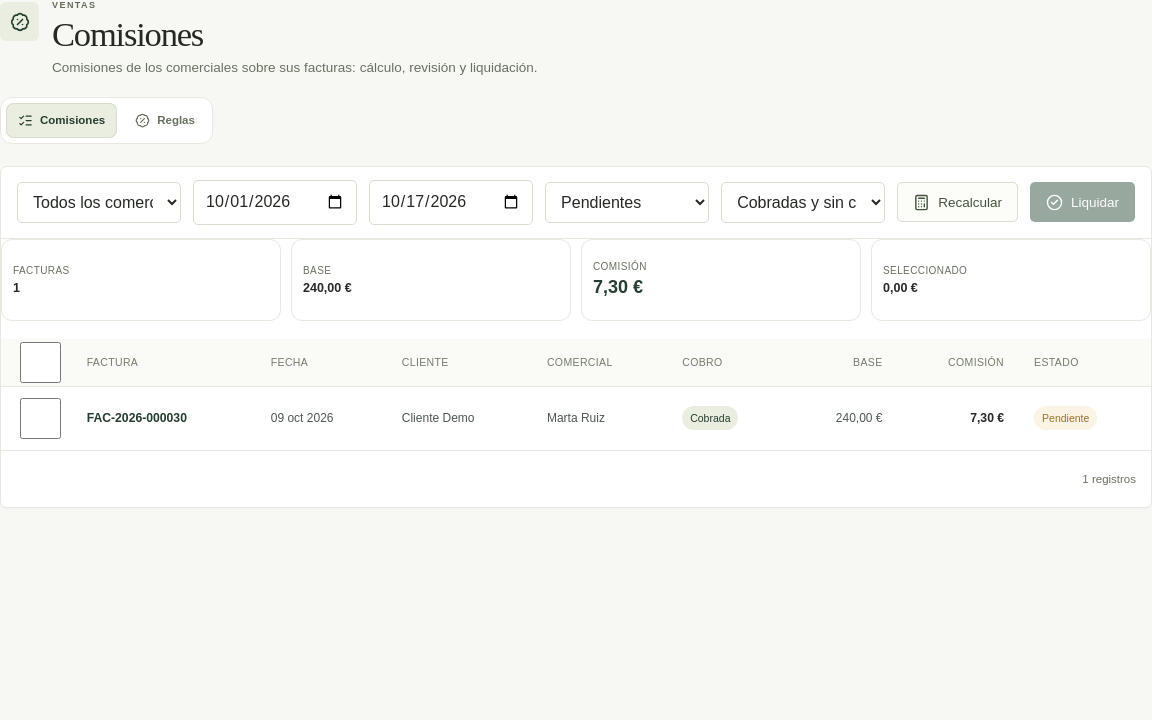
Test case: shows the commission of every line and settles the selected ones
Click the text "FAC-2026-000030": (137, 418) [87,411,187,425]
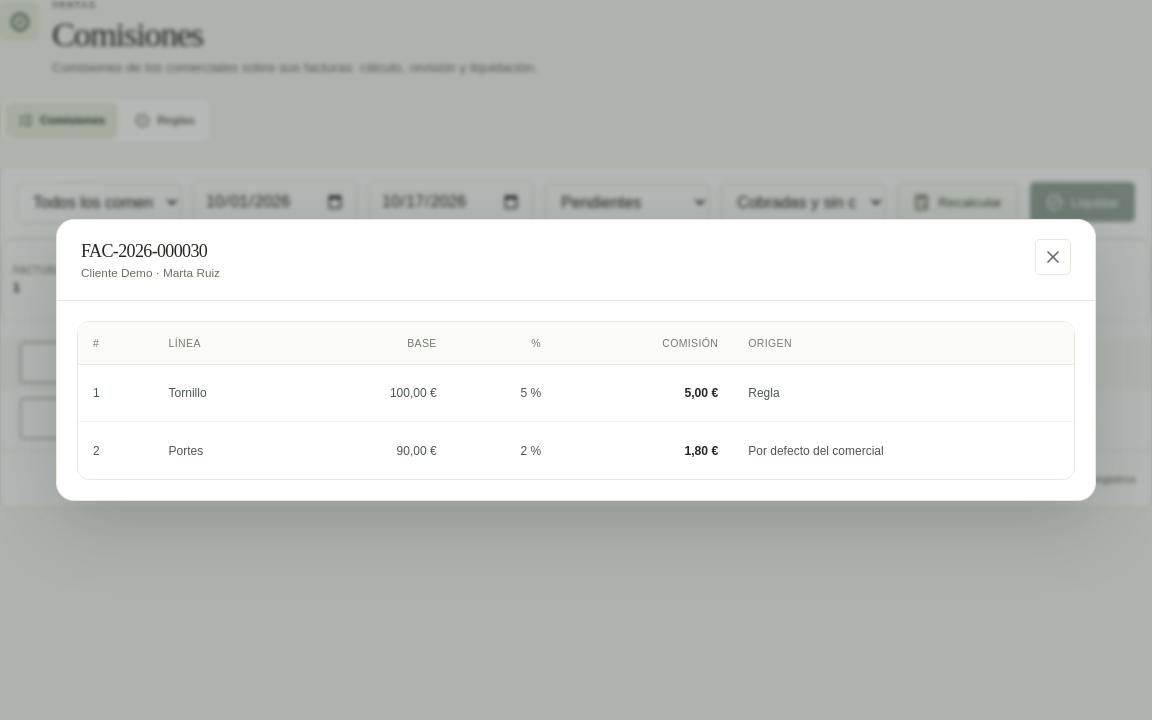
Result: the table named "Comisión por línea" shows "Por defecto del comercial" at [748,444,884,458]
Click the button named "Cerrar": (1053, 257) [1035,239,1071,275]
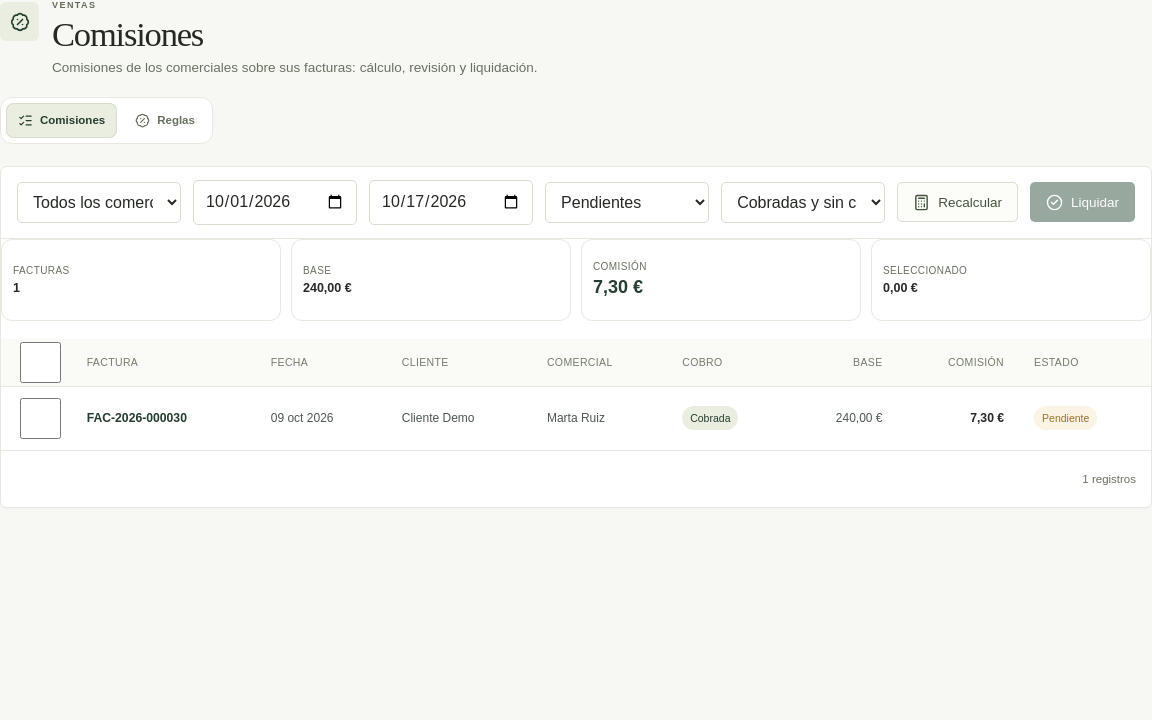
Click the checkbox named "Seleccionar FAC-2026-000030": (40, 418) [20,398,61,438]
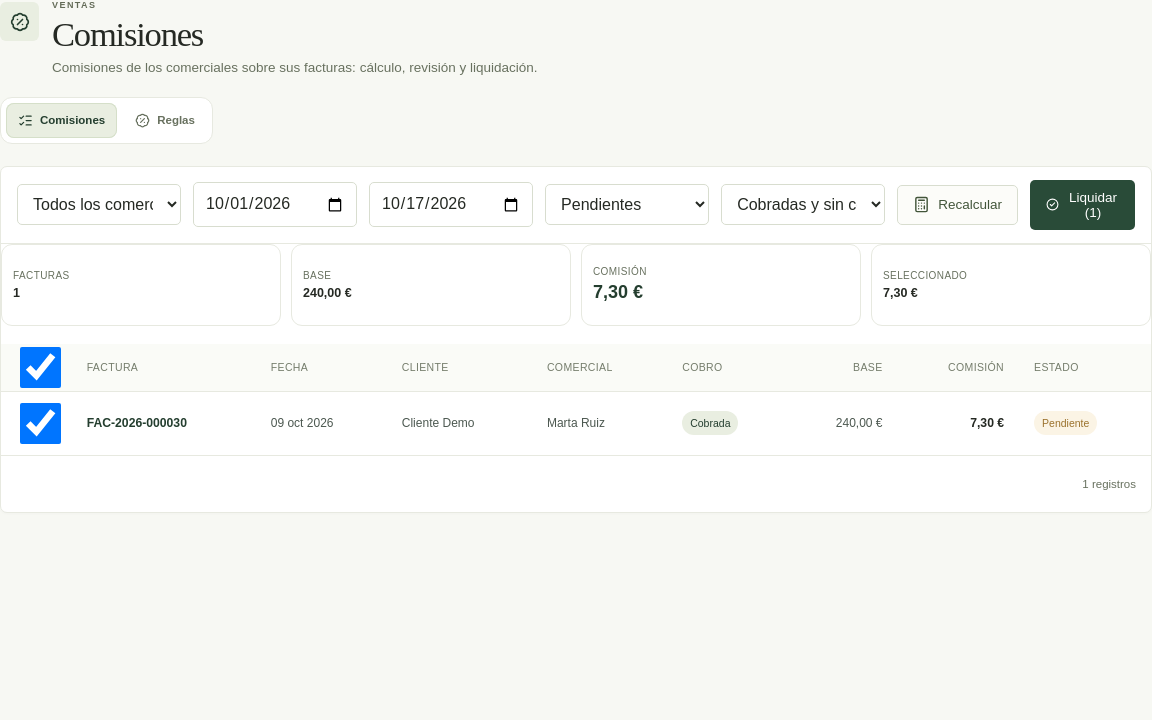
Click the button "Liquidar (1)": (1082, 205) [1030,180,1135,230]
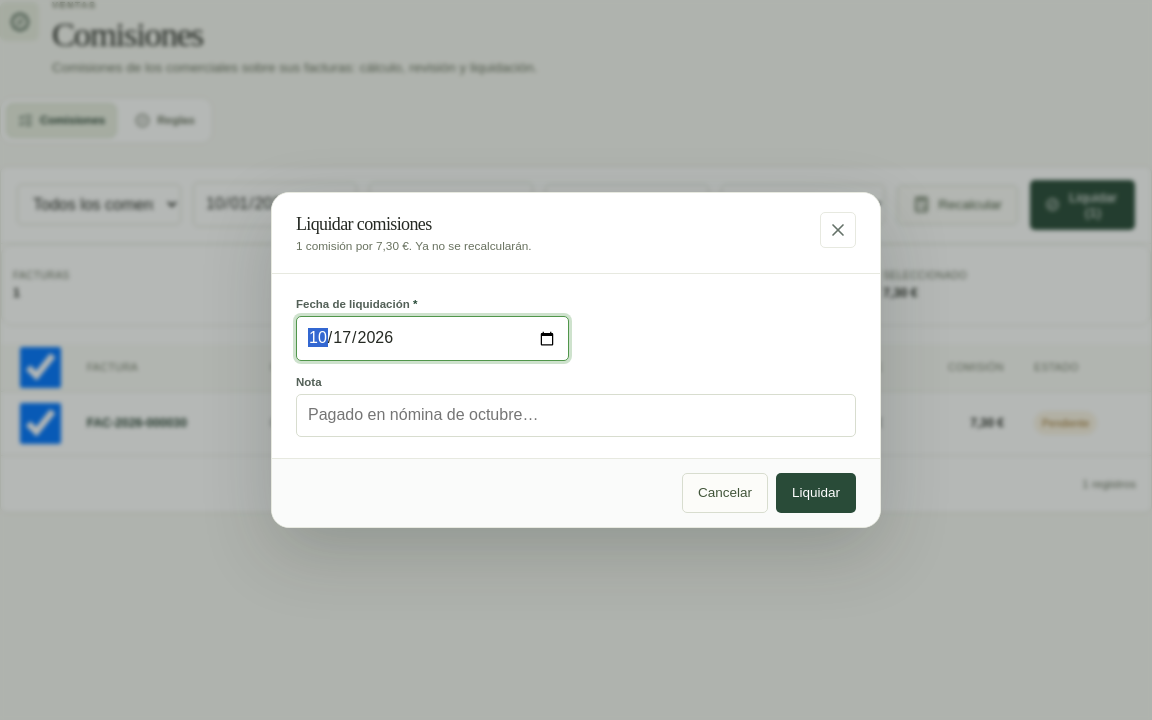
In the field labelled "Nota": (576, 415) [296,394,856,437], type "Nómina de octubre"
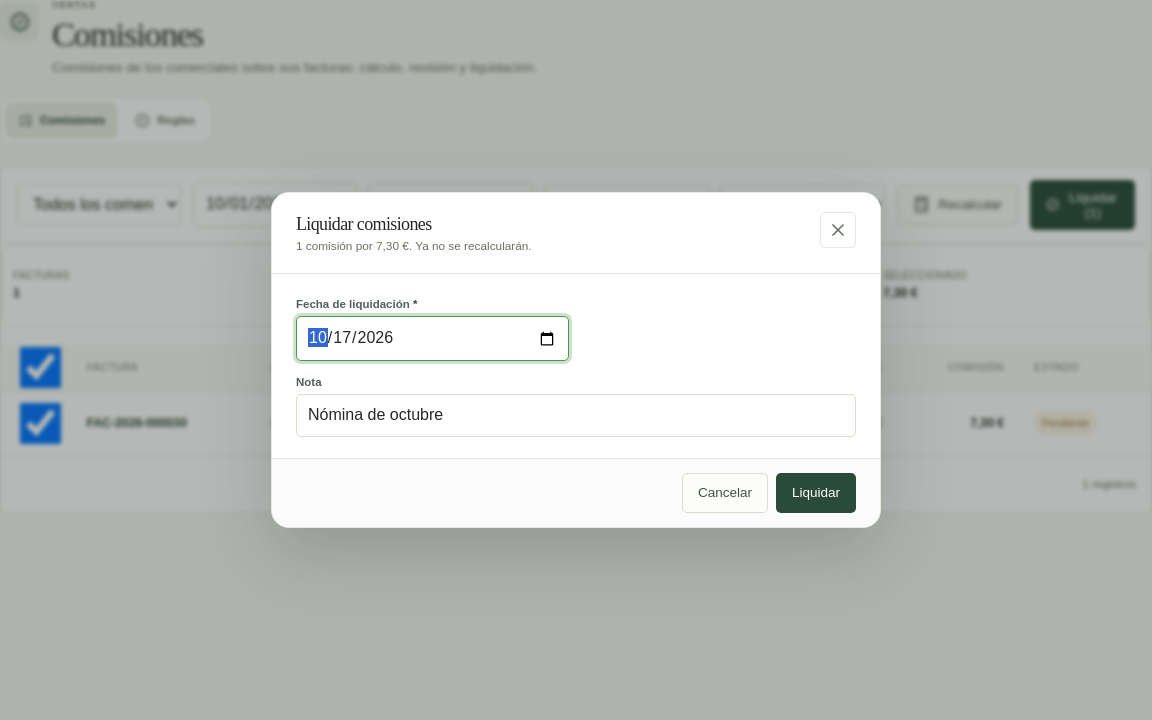
Click the button "Liquidar": (816, 493) [776,473,856,513]
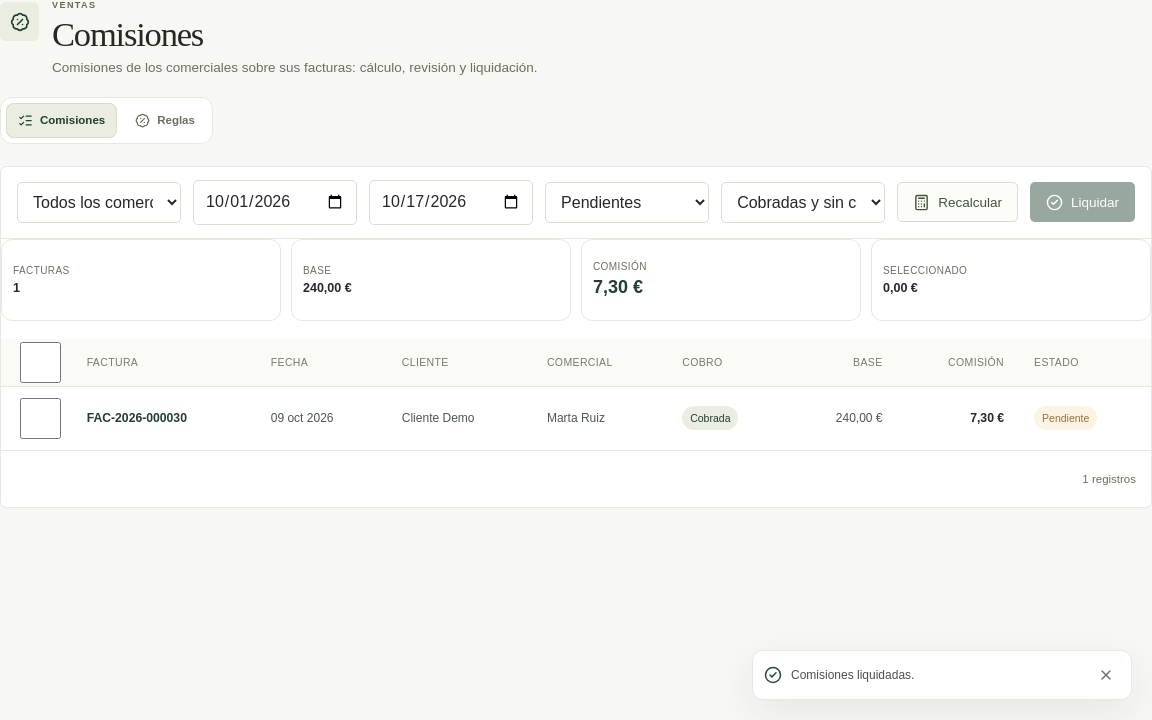
Result: the text "Comisiones liquidadas." is shown at [791,668,914,682]
